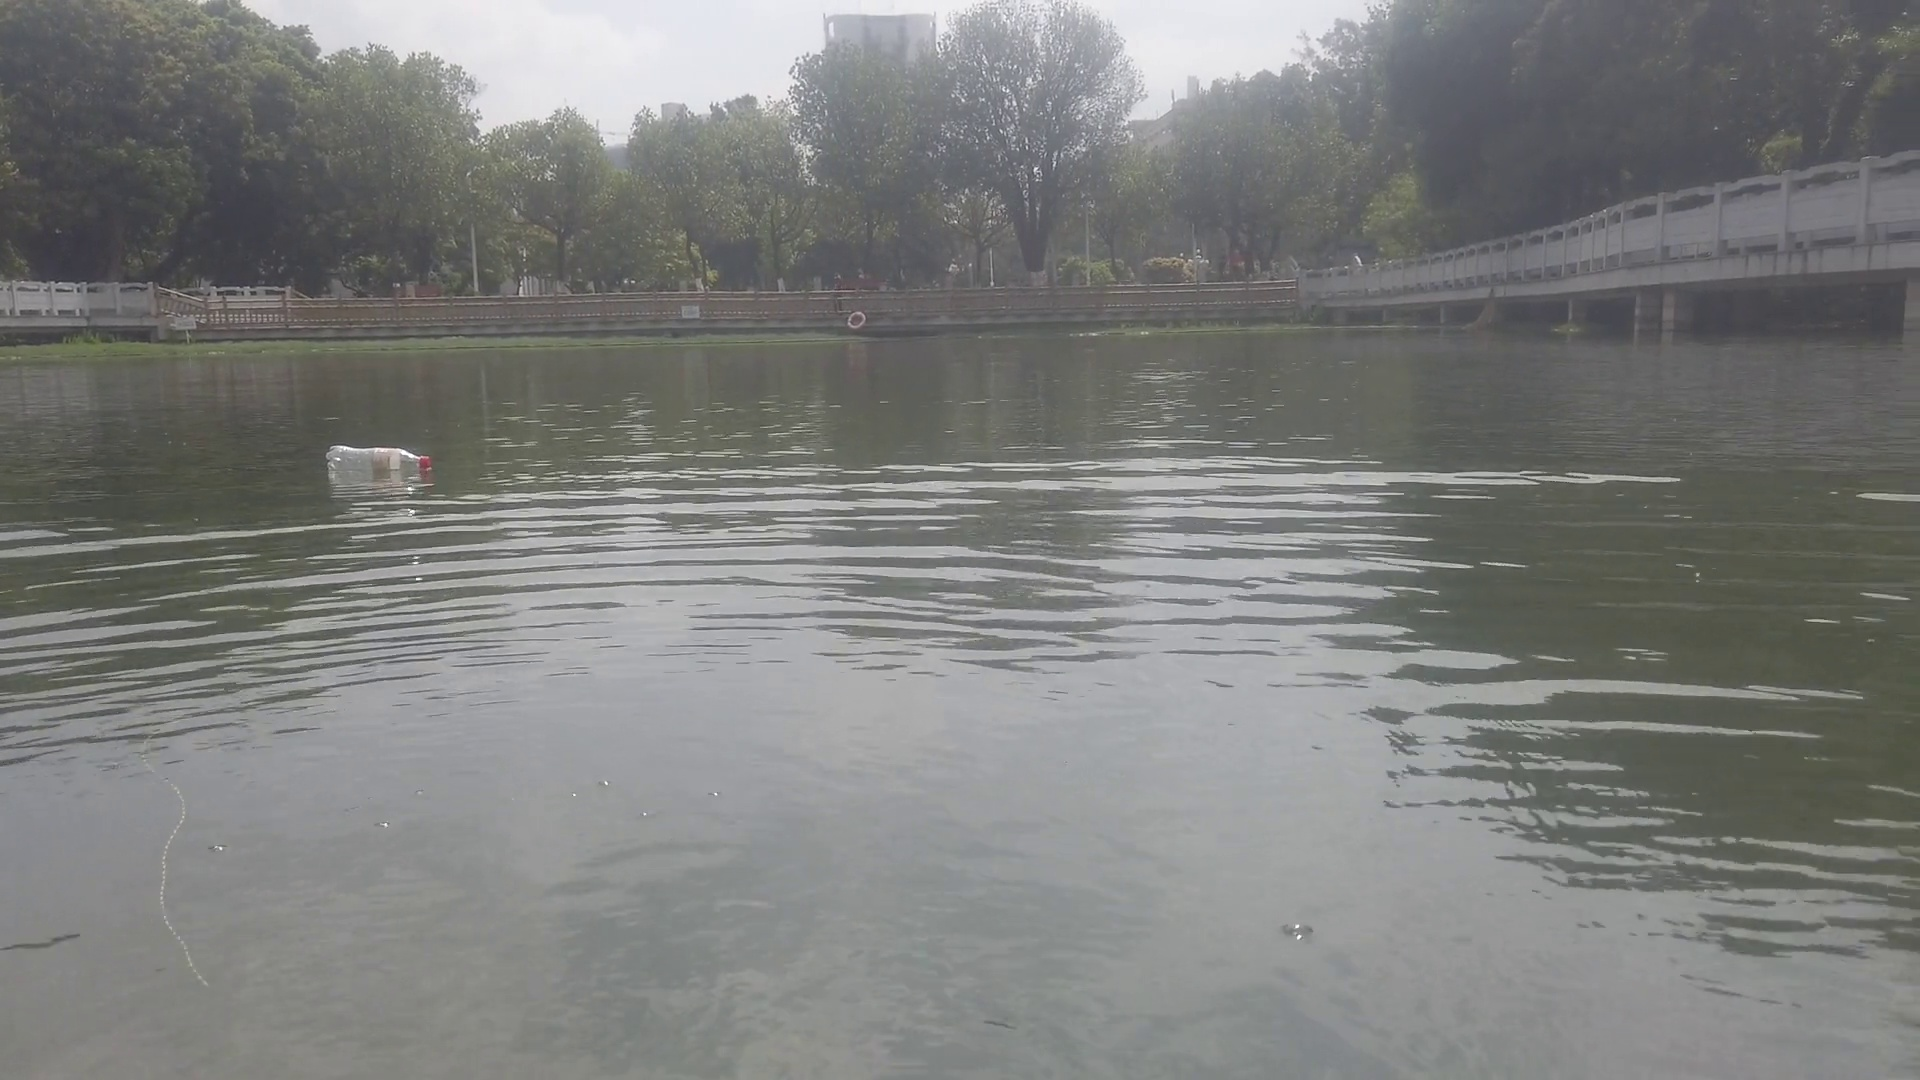bottle: (323, 440, 436, 477)
